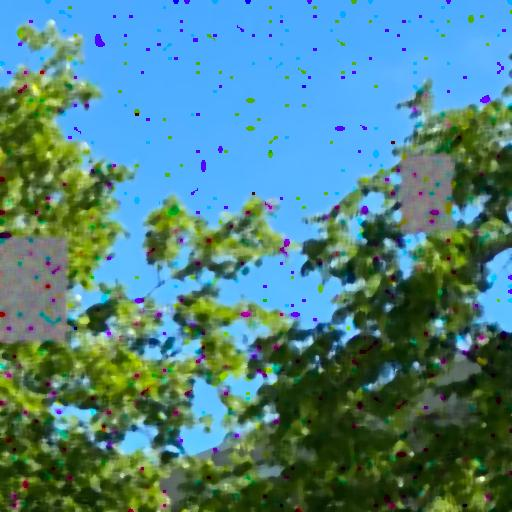tree: (1, 19, 512, 512)
